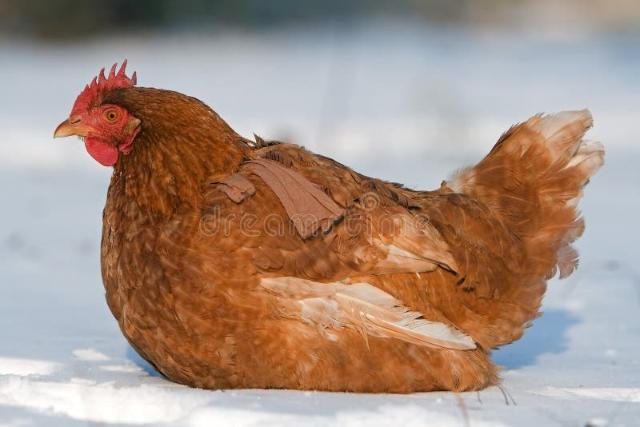Chicken: (53, 57, 606, 395)
